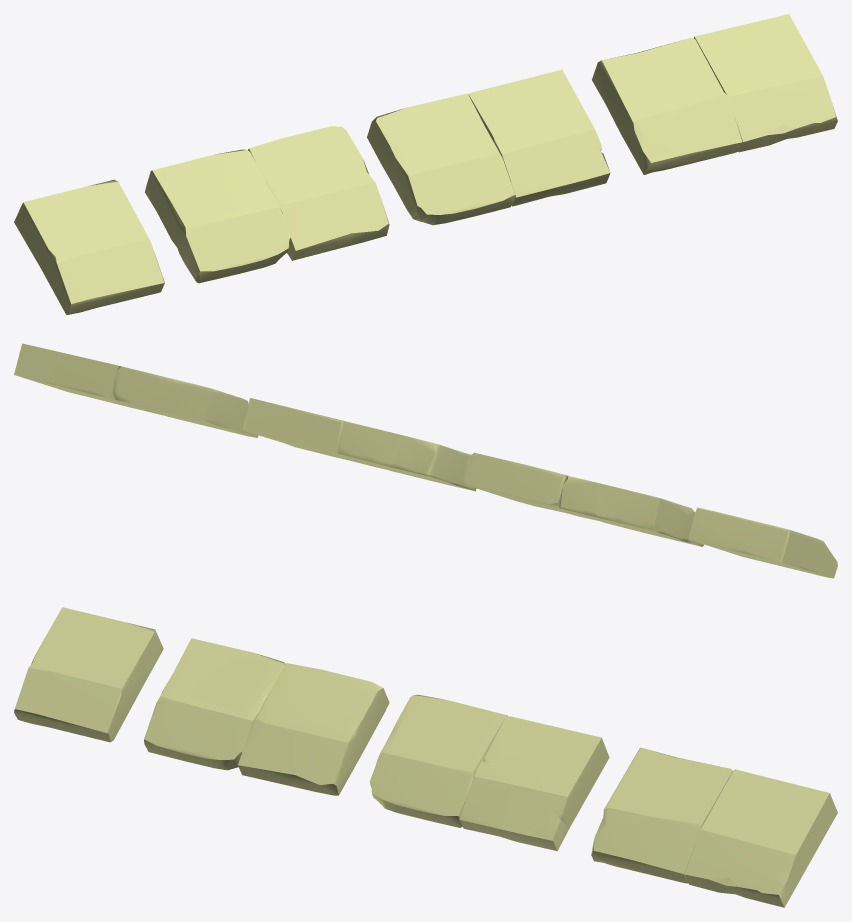
Rendered from stone_element_19_battlements_line_x3a.fbx.
3 views of the same model, one above another, from view 1: azimuth 30°, elevation 25°; view 2: azimuth 150°, elevation 25°; view 3: azimuth 330°, elevation 25° (orthographic).
Visible parts, largest first — view 1: stone_element_19_battlements_line_x3a_LOD0; view 2: stone_element_19_battlements_line_x3a_LOD0; view 3: stone_element_19_battlements_line_x3a_LOD0.
Part boxes in pixels (left/top/right/bottom): stone_element_19_battlements_line_x3a_LOD0: left=14, top=14, right=837, bottom=314; stone_element_19_battlements_line_x3a_LOD0: left=14, top=343, right=837, bottom=578; stone_element_19_battlements_line_x3a_LOD0: left=14, top=607, right=837, bottom=907.
Size of what is drawn, in the model's own units: 350 by 36.26 by 45.78.
